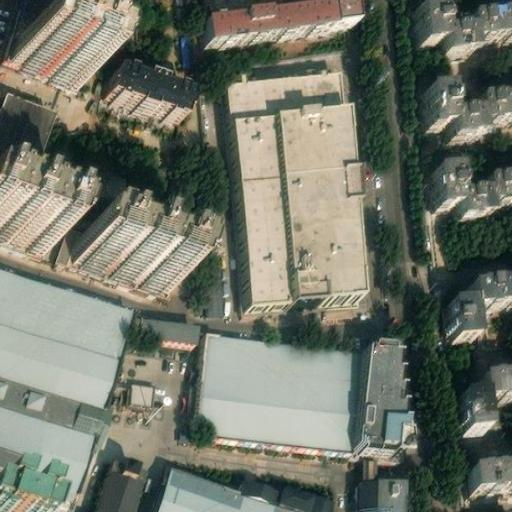building: (230, 63, 370, 295), (200, 327, 367, 444), (157, 460, 338, 512), (68, 224, 178, 290), (359, 331, 420, 445), (0, 85, 60, 200), (196, 0, 348, 40), (11, 21, 92, 76), (106, 61, 186, 111), (96, 447, 152, 512), (0, 193, 54, 247), (359, 471, 406, 512), (282, 476, 333, 509), (463, 12, 512, 42), (140, 311, 200, 335), (467, 459, 512, 491), (467, 274, 512, 306), (456, 388, 486, 430), (470, 95, 512, 123), (243, 469, 287, 495), (444, 297, 472, 337), (419, 85, 447, 124), (425, 171, 453, 209), (479, 367, 512, 396), (477, 181, 512, 208), (411, 7, 436, 41), (125, 380, 156, 407), (453, 194, 480, 224), (446, 109, 473, 138), (435, 29, 465, 54)
